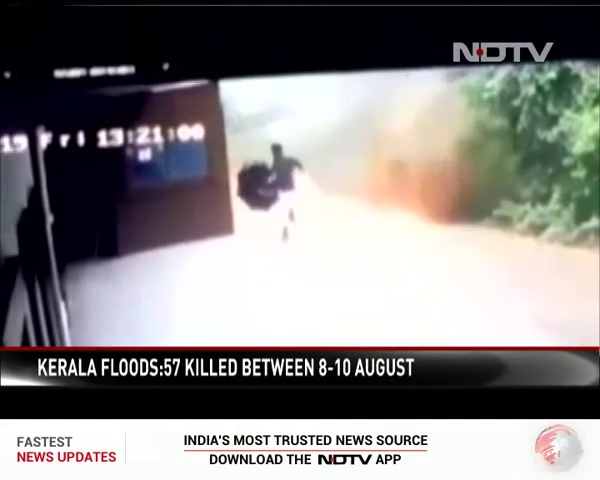person: (267, 145, 308, 246)
